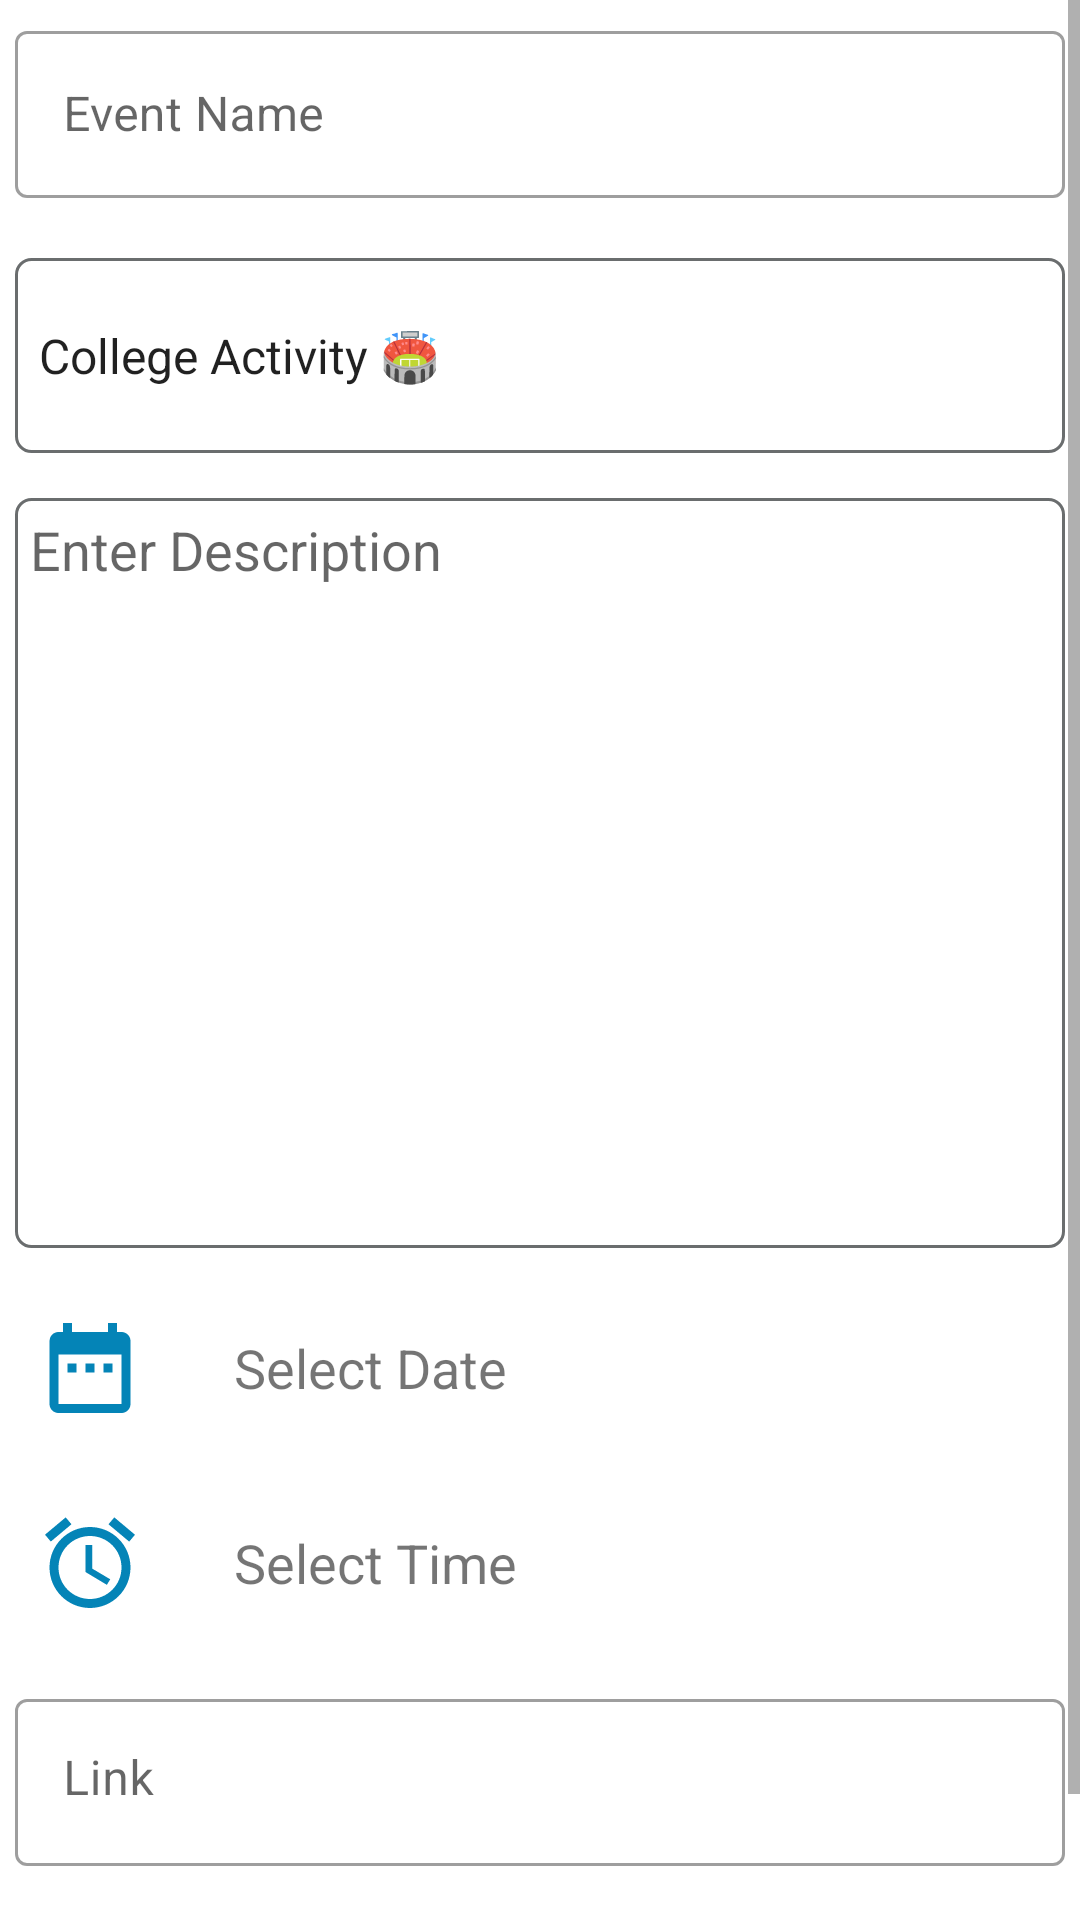

Icons on this 1080px x 1920px Android screen, each with its box as [left=x1, top=y1, right=x2, bottom=y2]:
date pic: [left=49, top=1323, right=131, bottom=1413]
time pick: [left=45, top=1517, right=135, bottom=1608]
